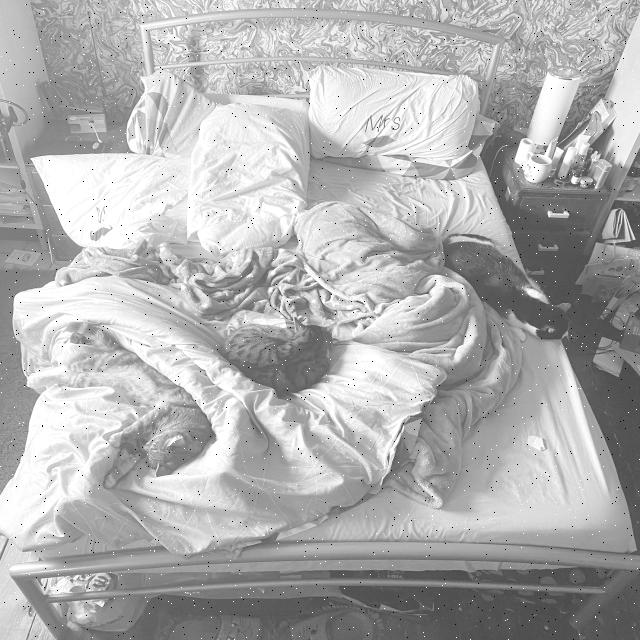bed: (0, 70, 638, 563)
